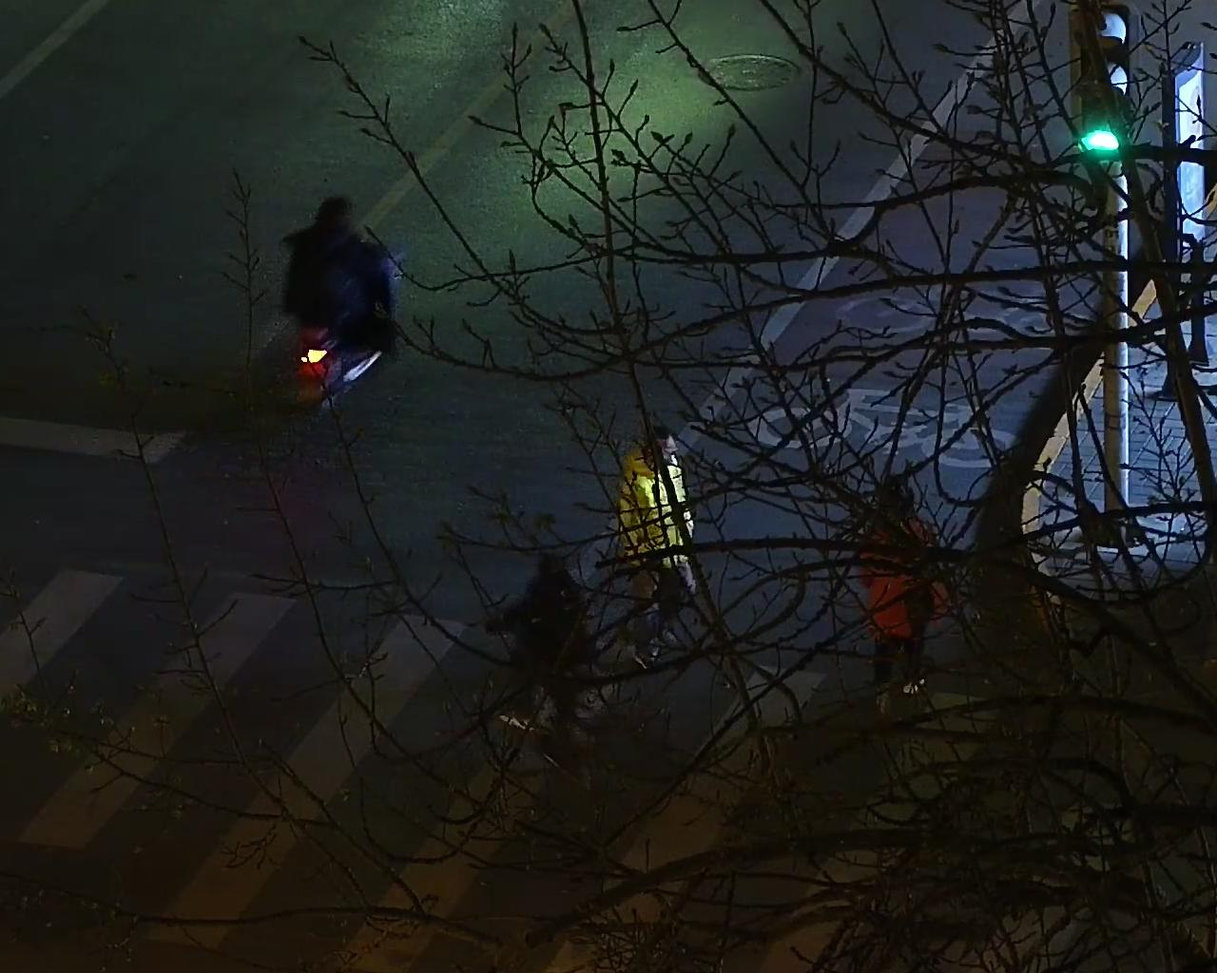person: (488, 535, 616, 771), (870, 480, 984, 713), (626, 432, 714, 651), (298, 189, 378, 410)
